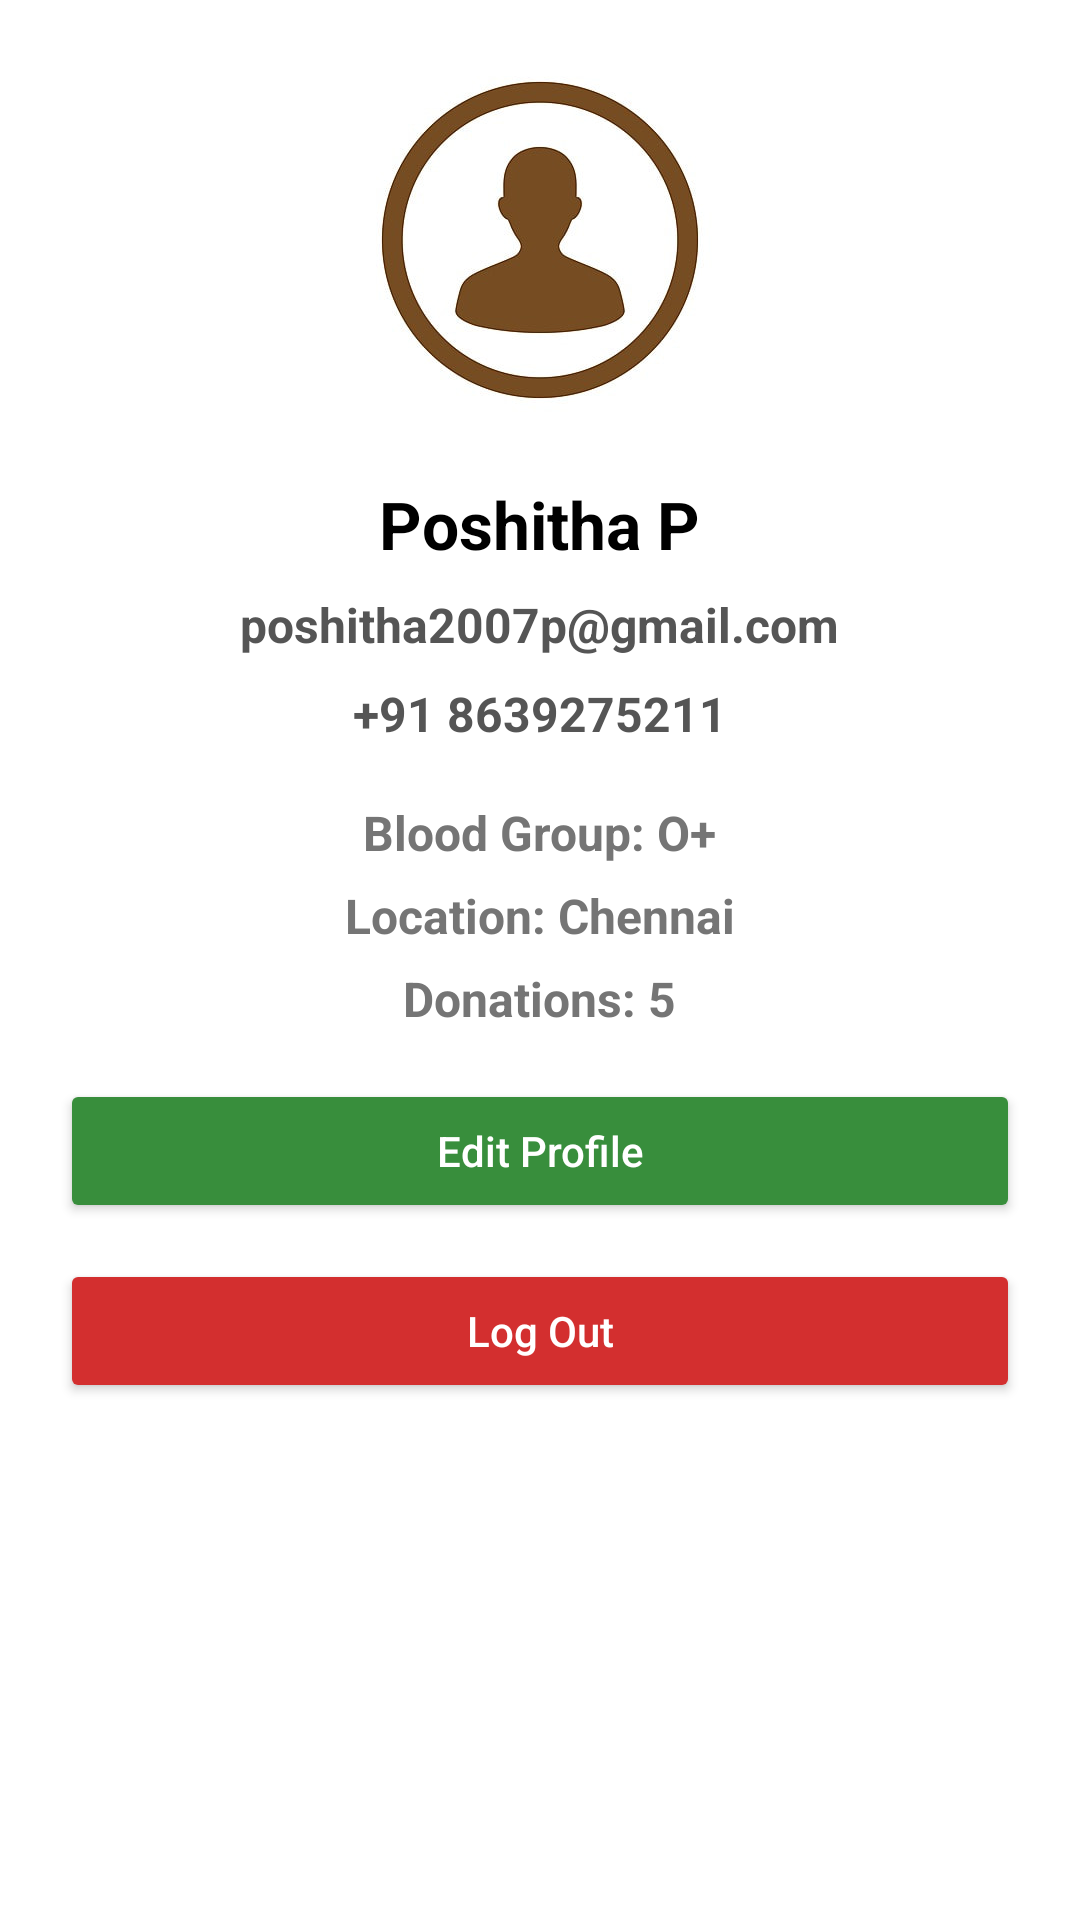

Screen size 1080*1920. Icon name, then its center in pixels as (x=x, y=y):
Profile Picture: (x=539, y=239)
